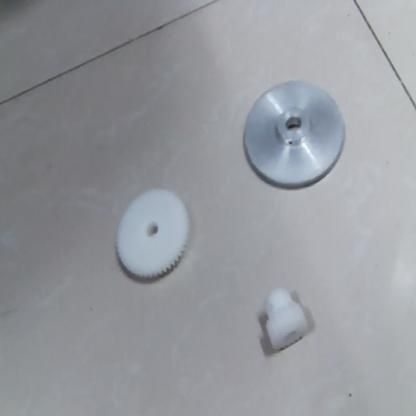FOD: (239, 79, 347, 194), (106, 177, 195, 292), (259, 284, 319, 354)
